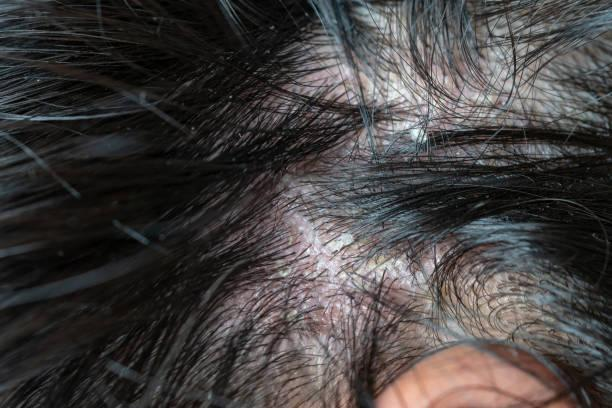dandruff: (400, 118, 440, 158), (261, 18, 284, 37), (209, 89, 241, 102), (177, 117, 200, 133)
